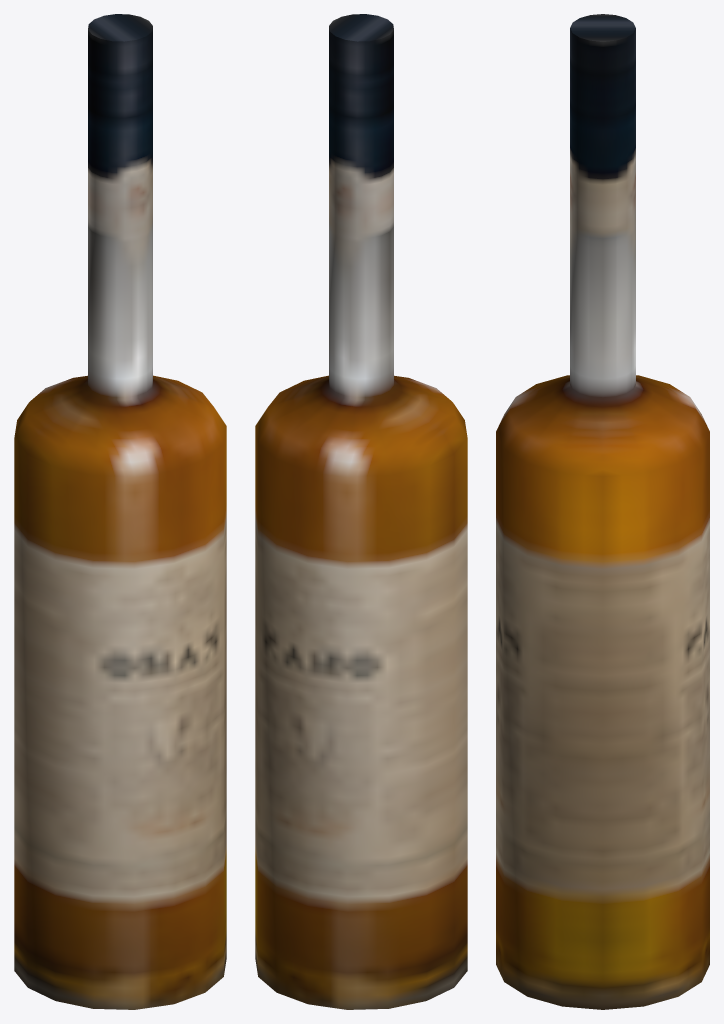
The model's file is booze_03.fbx.
The picture shows the model from 3 angles, left to right: view 1: azimuth 30°, elevation 25°; view 2: azimuth 150°, elevation 25°; view 3: azimuth 270°, elevation 25°; orthographic projection.
Visible parts, largest first — view 1: booze_03; view 2: booze_03; view 3: booze_03.
Part boxes in pixels (x1,y1,x2,y2): booze_03: (14, 14, 226, 1009); booze_03: (255, 14, 467, 1009); booze_03: (496, 14, 709, 1009).
Size of the model in its own units: 10.78 by 52.12 by 10.78.
